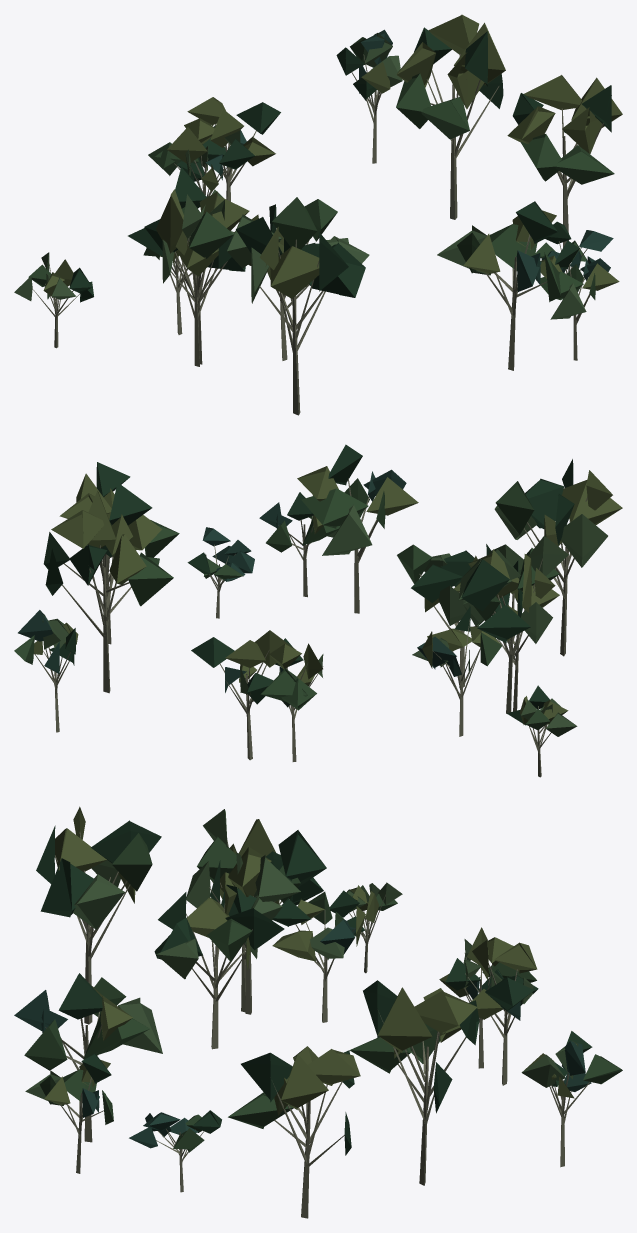
Rendered from forest_23_19.dae.
3 views of the same model, one above another, from view 1: azimuth 30°, elevation 25°; view 2: azimuth 150°, elevation 25°; view 3: azimuth 270°, elevation 25° (orthographic). The views are drawn at different scales.
Parts seen in each view (by area): view 1: Node; view 2: Node; view 3: Node.
Boxes of the visible parts, x1,y1,x2,y2 form: Node: (14,14,622,415); Node: (14,444,622,777); Node: (14,806,622,1218).
Size of the model in its own units: 10.86 by 9.65 by 3.86.
